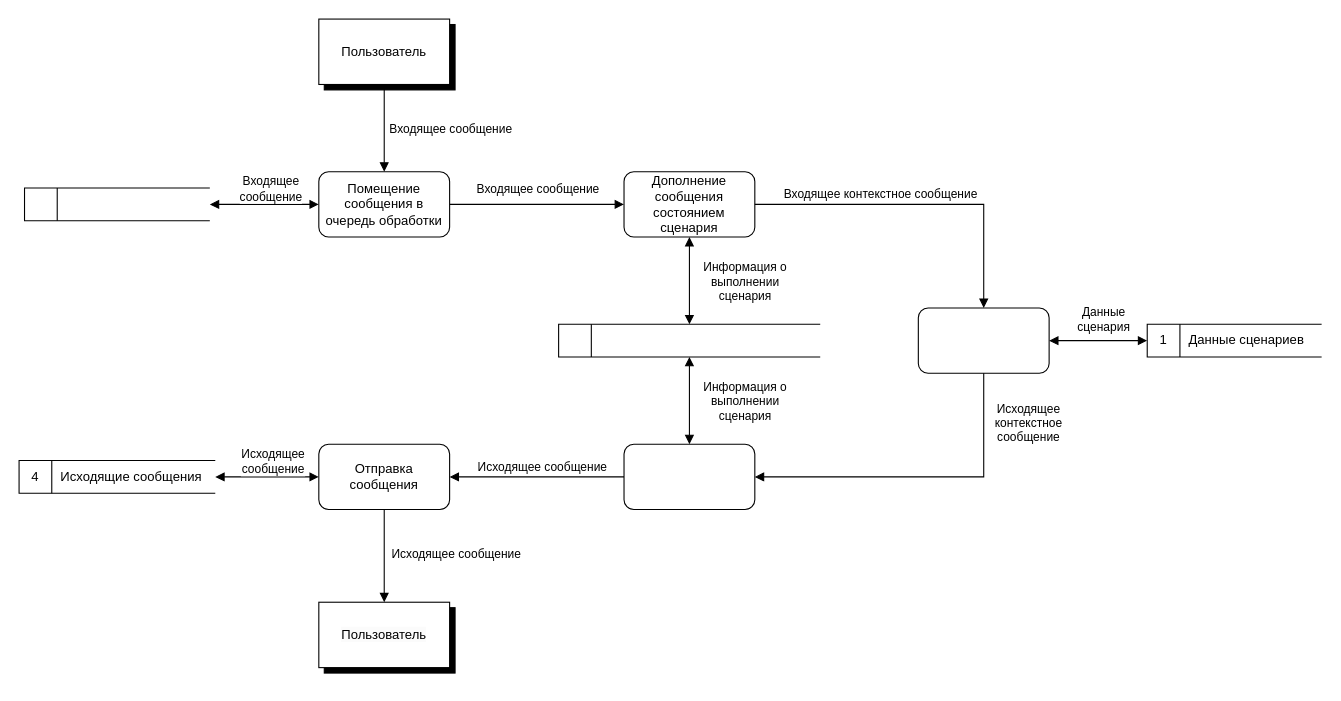
This 1341x701 diagram has some shape labels left out. Here are the shapes that lost their labels. From the top down, the centre of each, then its label:
point (116, 204): 2 Входящие сообщения
point (689, 340): 3 Состояния выполнения сценариев
point (983, 340): Выполнение действий по заданному сценарию
point (689, 476): Извлечение и сохранение контекста диалога
